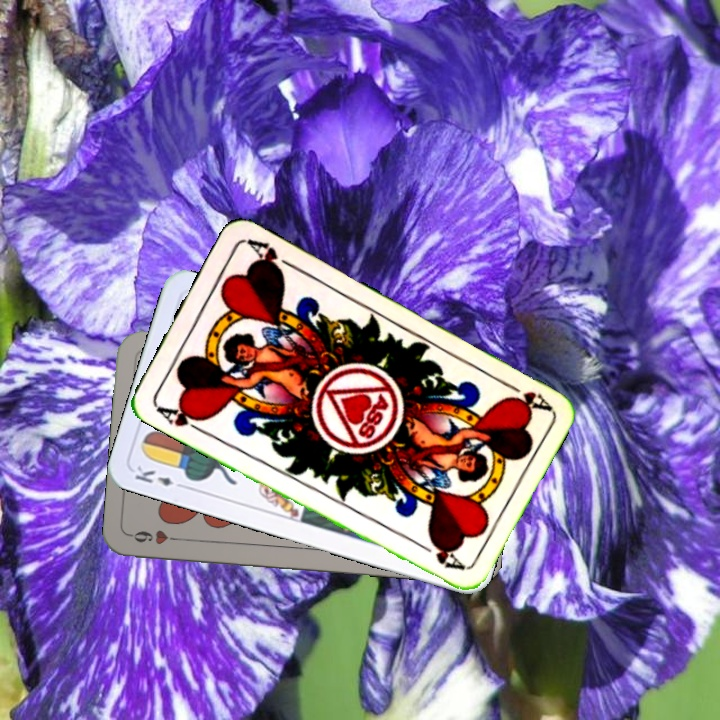EK: (131, 462, 189, 492)
H9: (127, 526, 186, 547)
HA: (151, 400, 208, 436), (498, 377, 553, 414)
